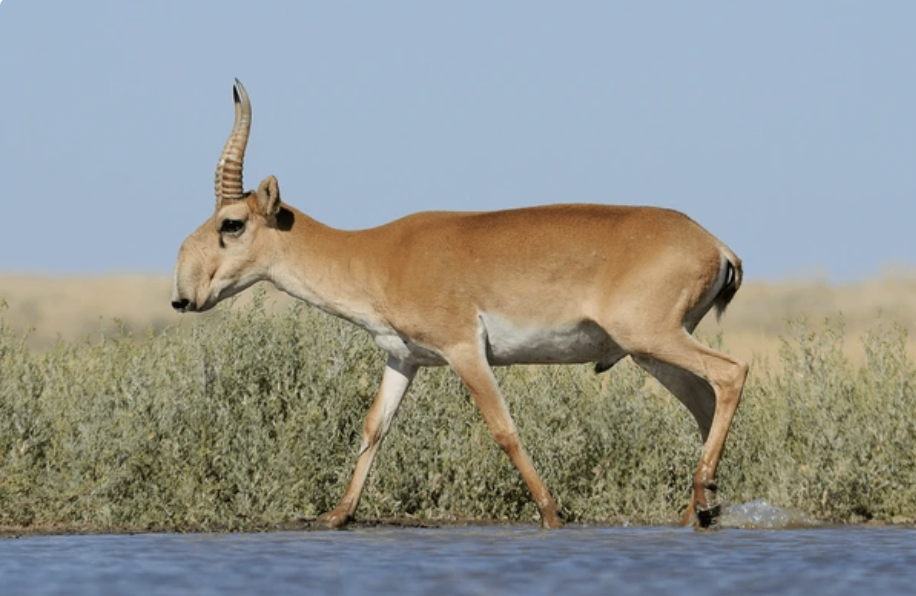saiga: (165, 76, 754, 525)
